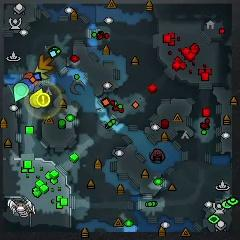Other: (37, 94, 50, 107)
p1: (21, 78, 35, 92)
p2: (14, 81, 29, 101)
p4: (30, 88, 44, 109)
p5: (22, 71, 40, 87)
x2: (34, 66, 51, 81)
x5: (38, 54, 55, 72)
